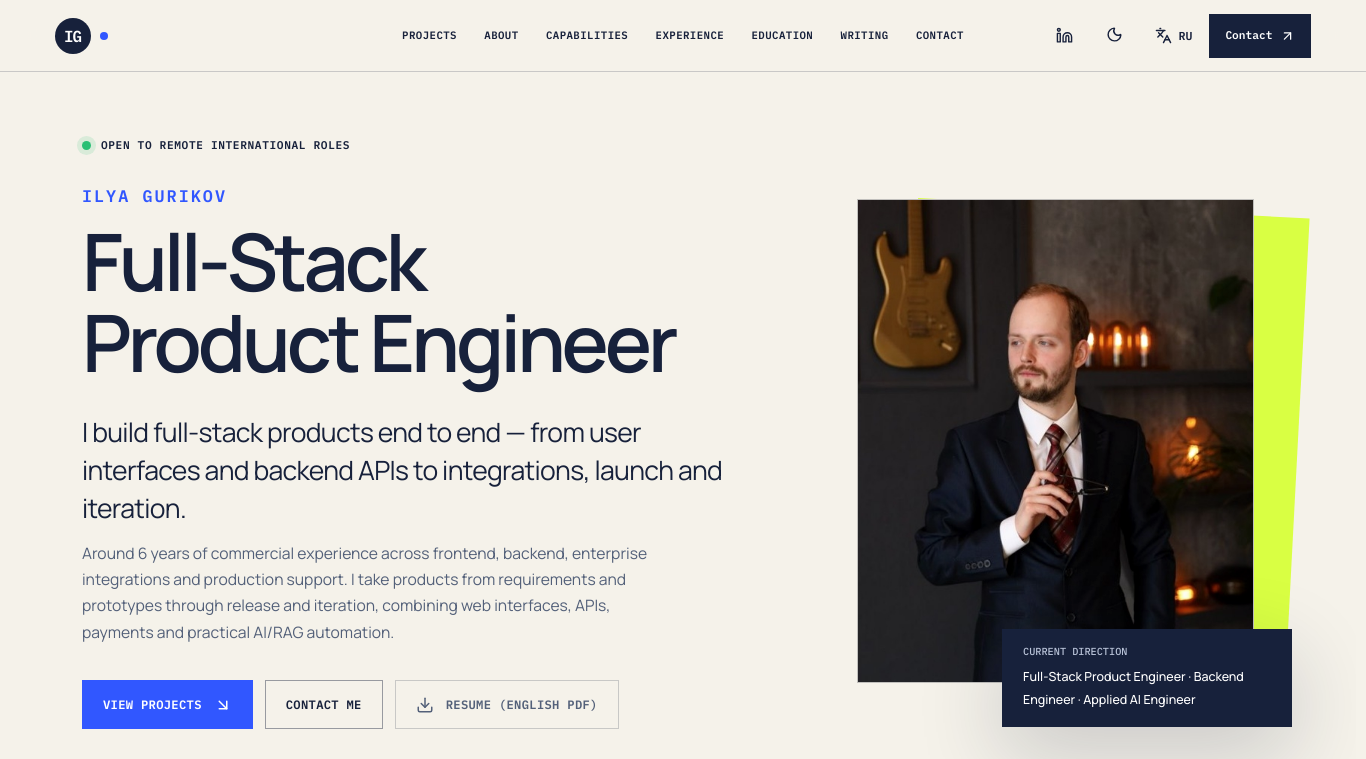
Scenario: portfolio › opens an accessible contact dialog, closes on Escape and restores focus
Click the button "Contact me": (324, 705) [265,680,383,729]
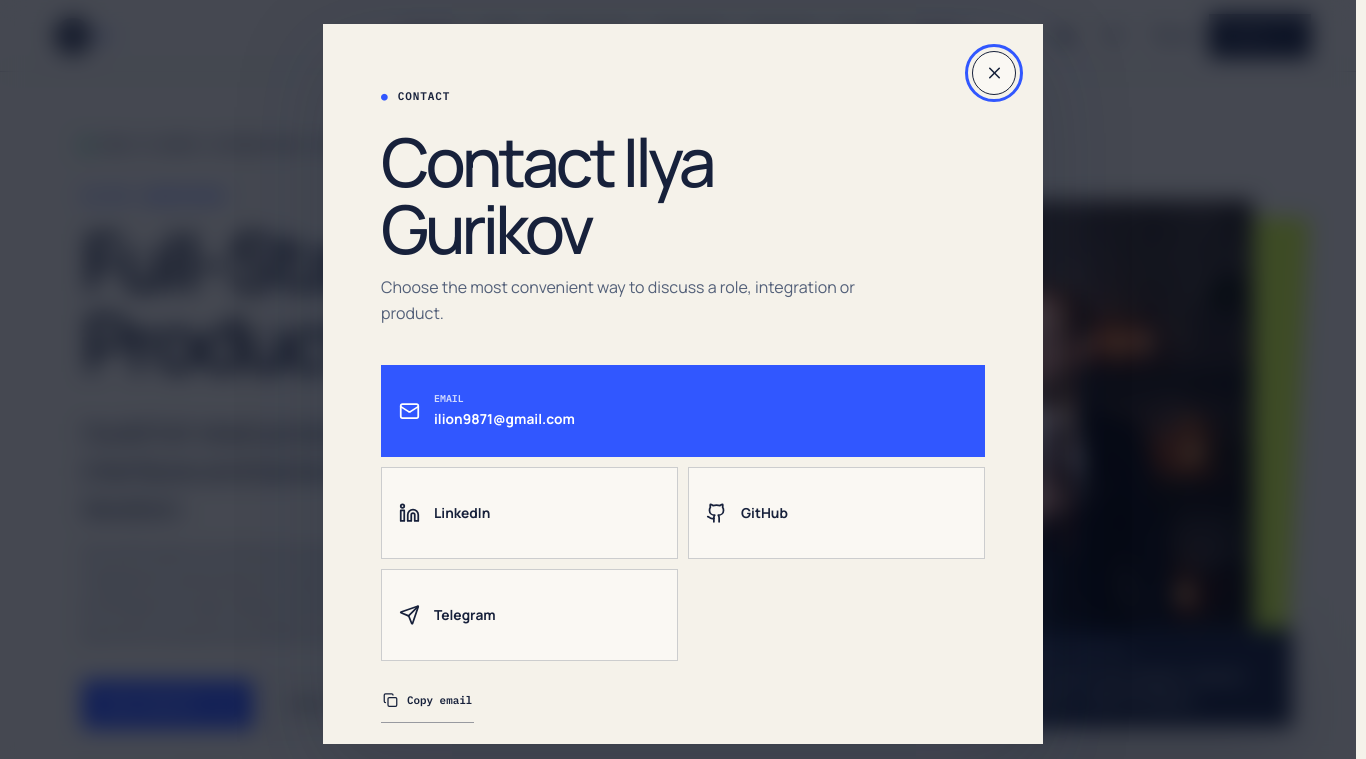
Expected: the dialog "Contact Ilya Gurikov" is shown, [323,24,1043,744]
Press Escape
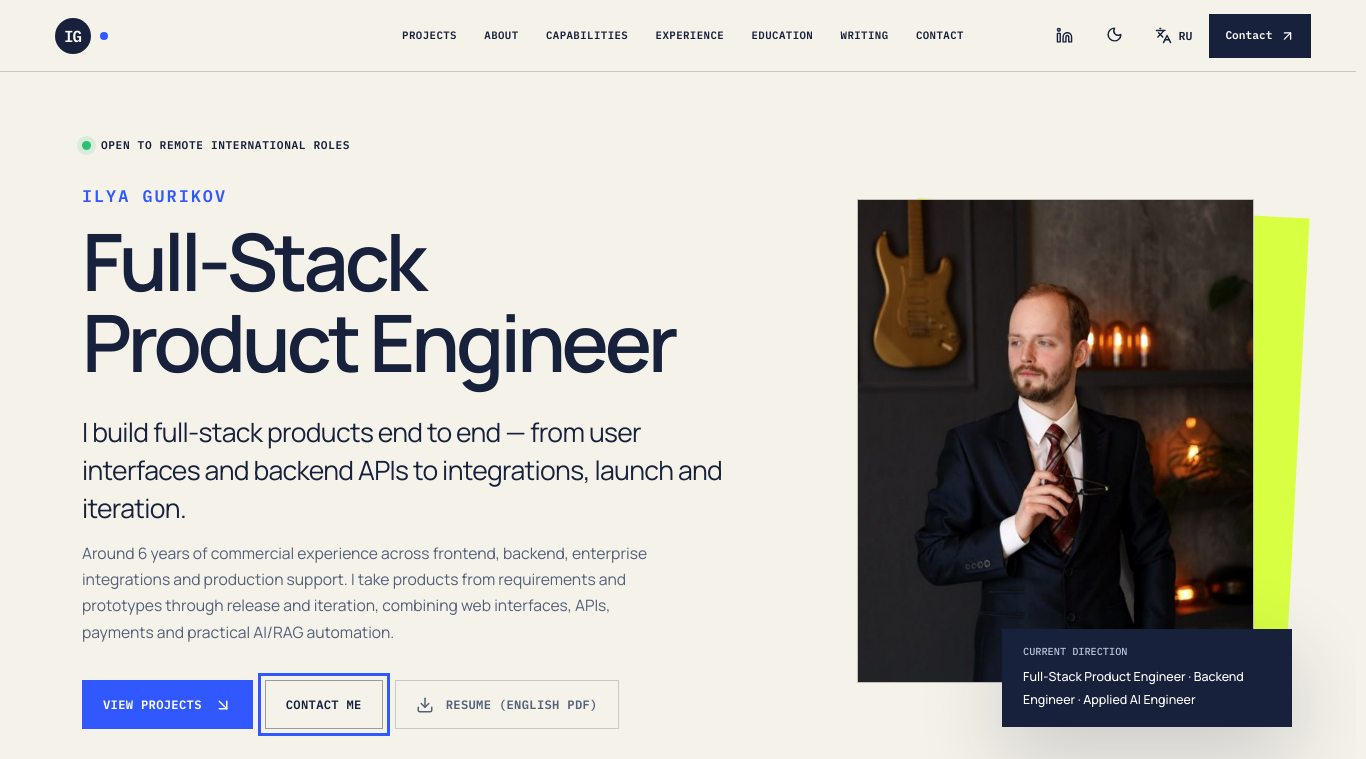
Expected: the dialog is gone
